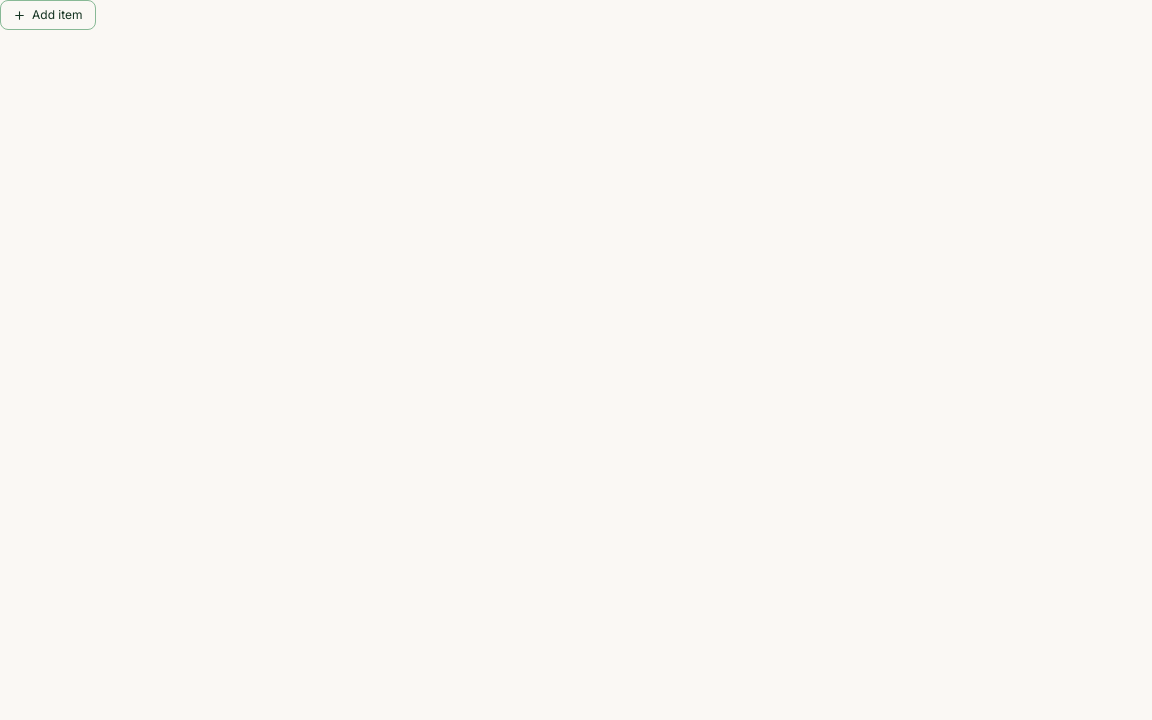
it: S2 — the line input survives typing › keeps the SAME <input> node, focused, for a whole sentence
Click the button "Add item". click: (48,15)
box: [0,0,96,30]
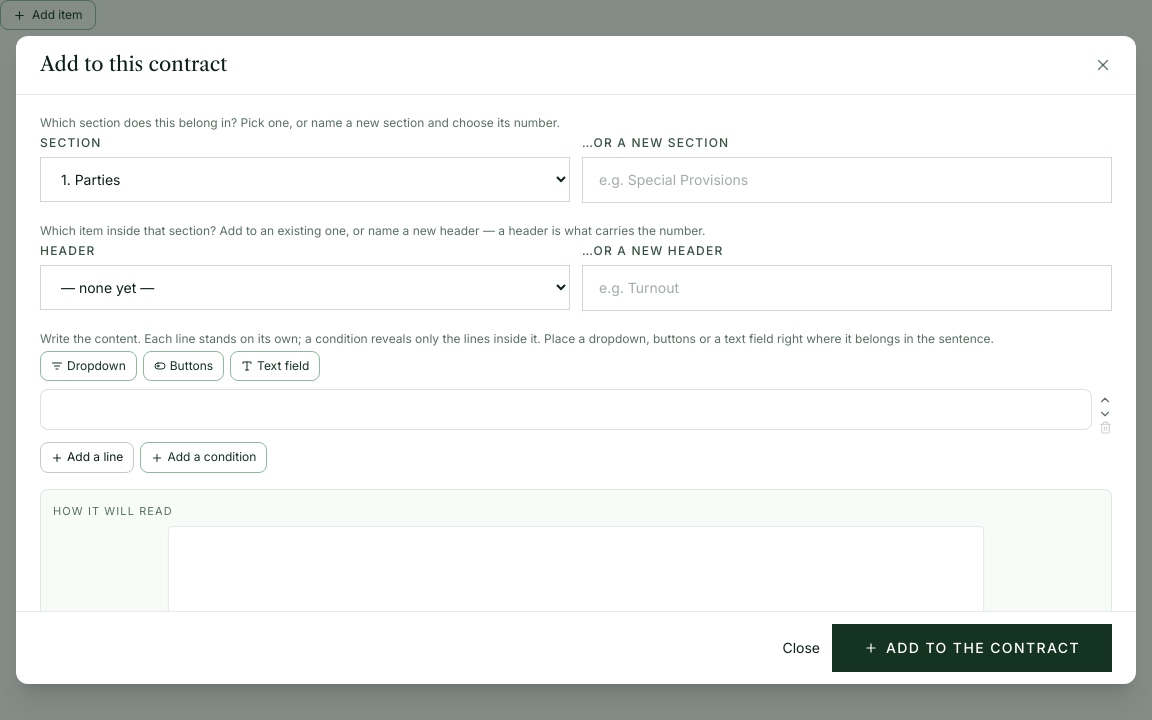
Type keys "The Lessee shall provide 48 hours notice."
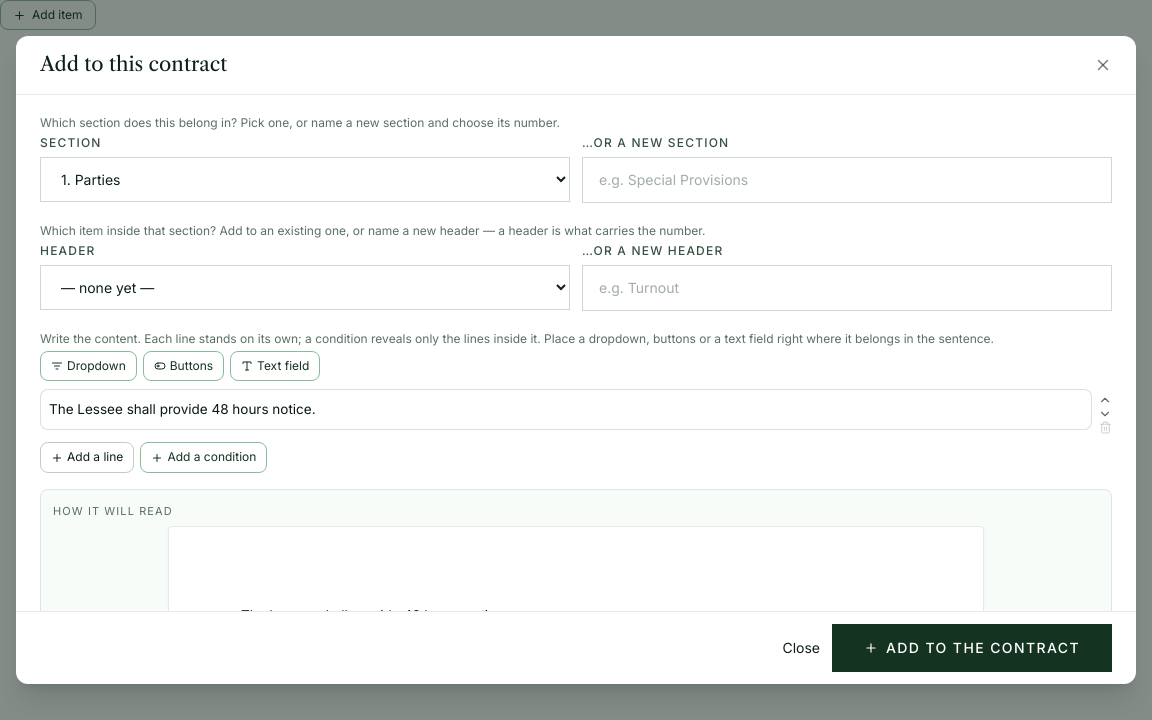
Expected: the field named "Line text" holds "The Lessee shall provide 48 hours notice.", [49,396,1083,423]
